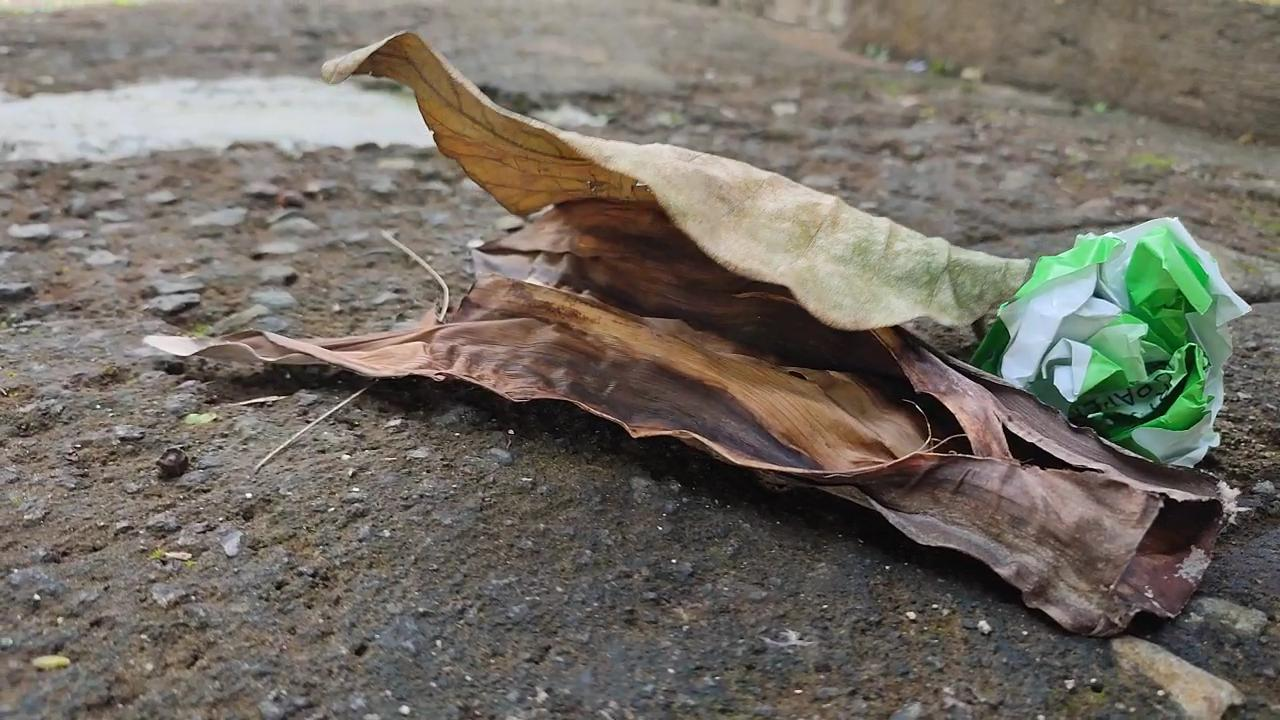Paper: (982, 201, 1259, 473)
